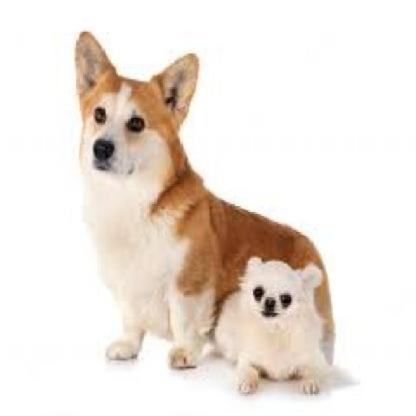dog: (74, 29, 338, 392), (209, 256, 334, 396)
